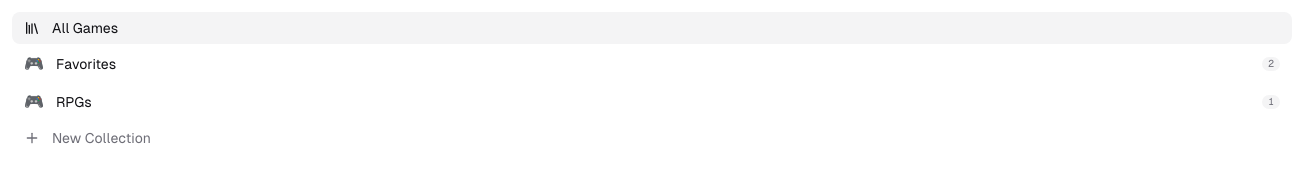
Test: Story 10.1: CollectionsSidebar › right-click shows context menu with Edit/Delete
Right-click the button with test id "collection-entry-c1".
right_click(86, 64)  # box [12,46,1292,82]
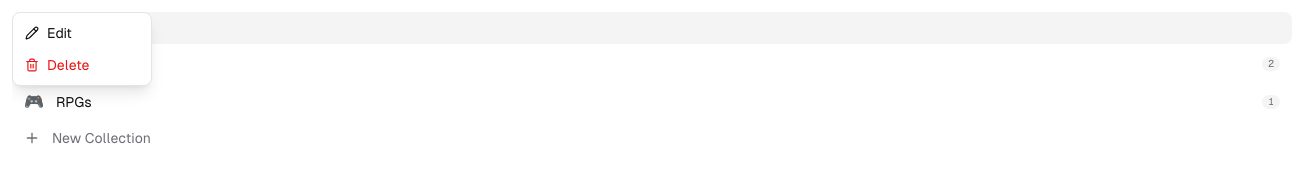
Expected: the menu with test id "collection-context-menu" is shown, [12,12,152,86]
Expected: the menu item with test id "ctx-edit-collection" is shown, [17,17,147,49]
Expected: the menu item with test id "ctx-delete-collection" is shown, [17,49,147,81]
